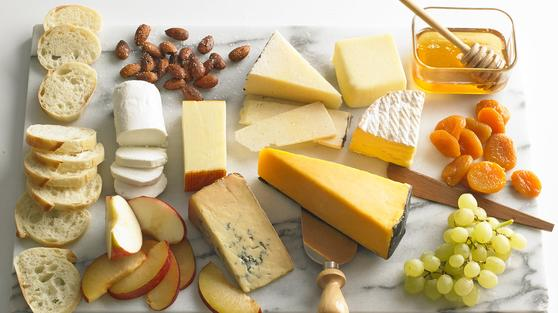cheese: (262, 143, 411, 261), (186, 174, 298, 291), (242, 31, 345, 111)
